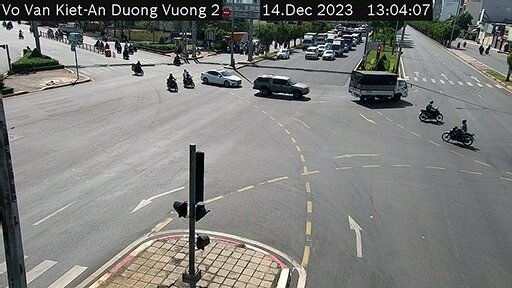car: (249, 69, 310, 98), (199, 65, 241, 92)
motorbike: (443, 116, 476, 143), (156, 71, 180, 96), (416, 100, 442, 120), (179, 68, 197, 92), (128, 59, 144, 73)
truck: (346, 67, 413, 104)
